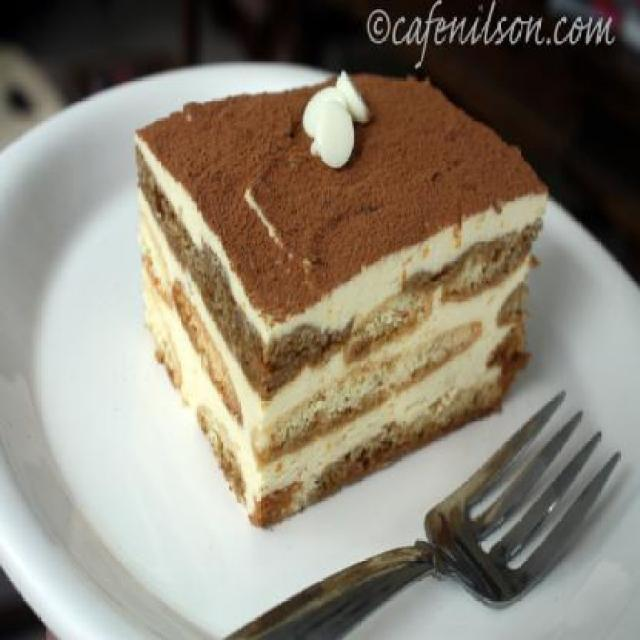Tiramisu: (123, 65, 534, 498)
